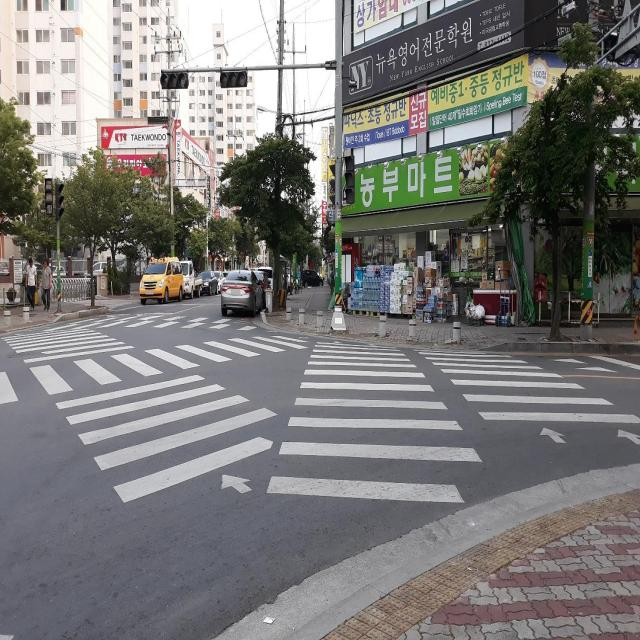횡단보도: (264, 340, 640, 510), (0, 296, 275, 507)
